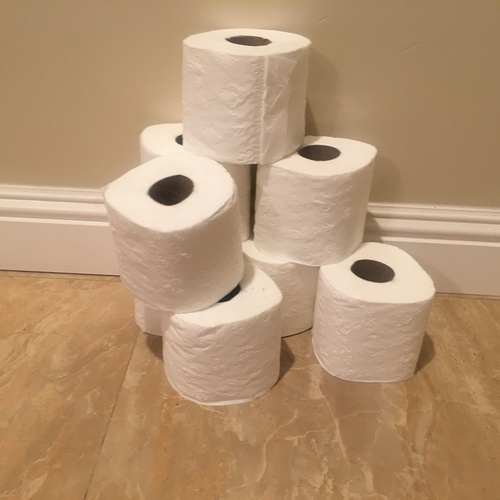roll: (104, 152, 245, 313), (180, 27, 313, 163), (160, 263, 283, 406), (312, 239, 434, 379), (253, 136, 378, 265), (139, 123, 249, 241), (239, 235, 313, 337)
